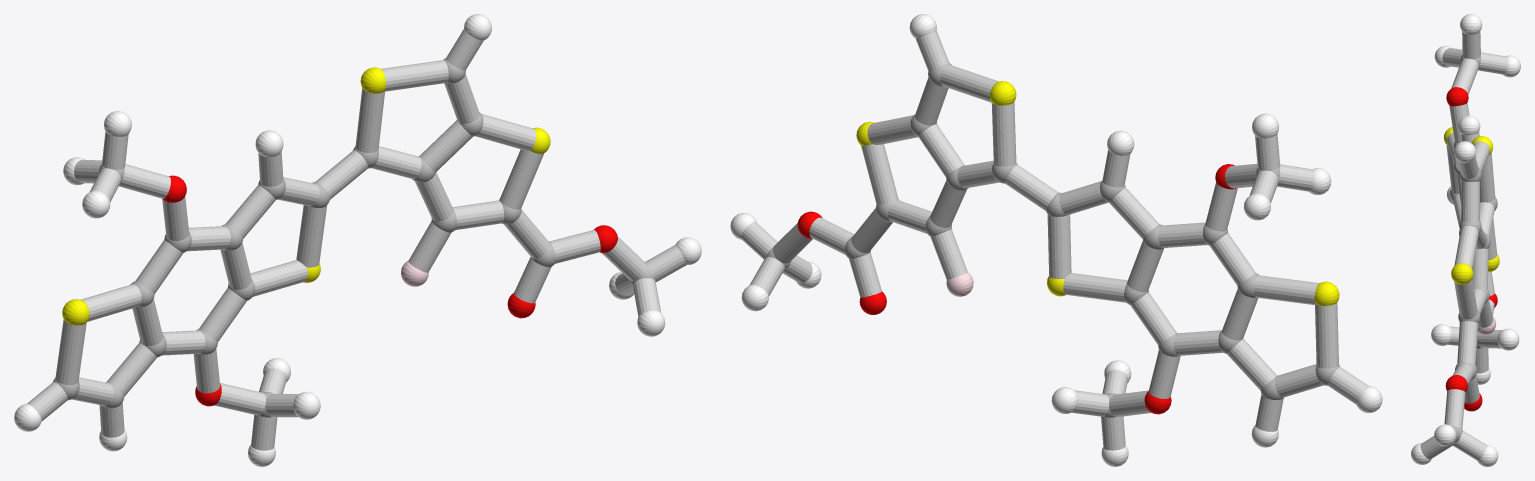
Rendered from color.glb.
3 views of the same model, side by side, from view 1: azimuth 30°, elevation 25°; view 2: azimuth 150°, elevation 25°; view 3: azimuth 270°, elevation 25° (orthographic). The views are drawn at different scales.
Parts seen in each view (by area): view 1: grp15205, grp8689, grp1, grp7241, grp13395; view 2: grp15205, grp8689, grp1, grp7241, grp13395; view 3: grp15205, grp8689, grp1, grp13395, grp7241, grp14843.
Boxes of the visible parts, box(x1,y1,x2,y2) form: grp15205: box(27, 29, 686, 450); grp8689: box(14, 14, 701, 466); grp1: box(53, 58, 653, 417); grp7241: box(62, 67, 550, 325); grp13395: box(163, 175, 617, 406); grp15205: box(741, 30, 1368, 450); grp8689: box(730, 14, 1382, 466); grp1: box(765, 63, 1340, 417); grp7241: box(856, 81, 1339, 305); grp13395: box(797, 164, 1236, 414); grp15205: box(1420, 31, 1507, 460); grp8689: box(1411, 14, 1520, 466); grp1: box(1450, 54, 1497, 445); grp13395: box(1445, 87, 1497, 411); grp7241: box(1443, 127, 1499, 284); grp14843: box(1477, 316, 1496, 334).
Size of the model in its own units: 16.67 by 9.58 by 2.97.
